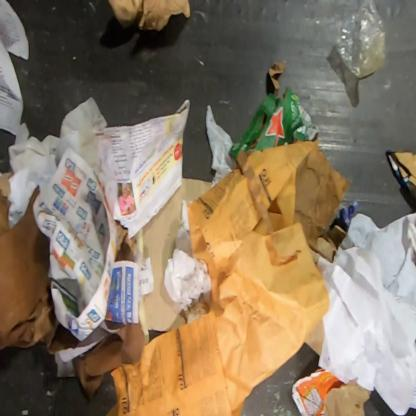cardboard: (228, 62, 353, 251), (0, 185, 80, 357), (138, 178, 213, 346), (72, 313, 145, 403), (106, 0, 191, 32), (384, 148, 415, 206), (310, 226, 348, 267), (0, 171, 15, 238), (304, 318, 325, 358)
rigid_plastic: (336, 0, 386, 79)
